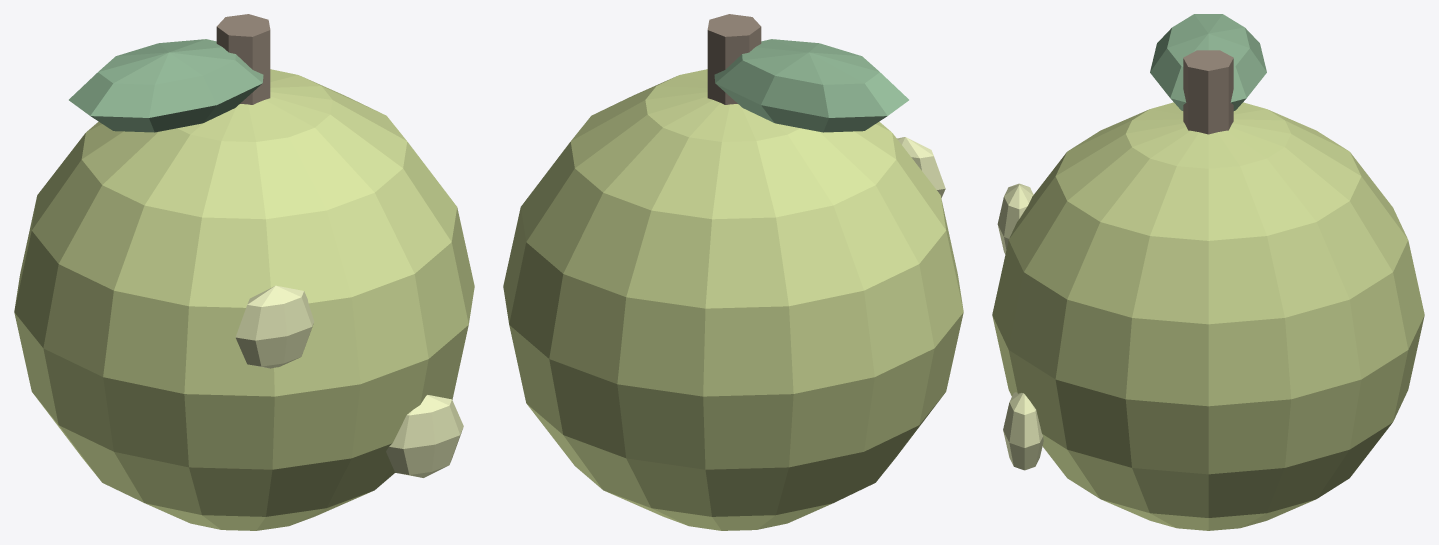
Rendered from fruto_normal.glb.
3 views of the same model, side by side, from view 1: azimuth 30°, elevation 25°; view 2: azimuth 150°, elevation 25°; view 3: azimuth 270°, elevation 25° (orthographic). The views are drawn at different scales.
Parts seen in each view (by area): view 1: fruto_normal; view 2: fruto_normal; view 3: fruto_normal.
Part boxes in pixels (x1,y1,x2,y2): fruto_normal: (14, 14, 474, 530); fruto_normal: (503, 14, 963, 530); fruto_normal: (992, 14, 1424, 530).
Bounding box in the file's own units: 0.4 × 0.46 × 0.4.
